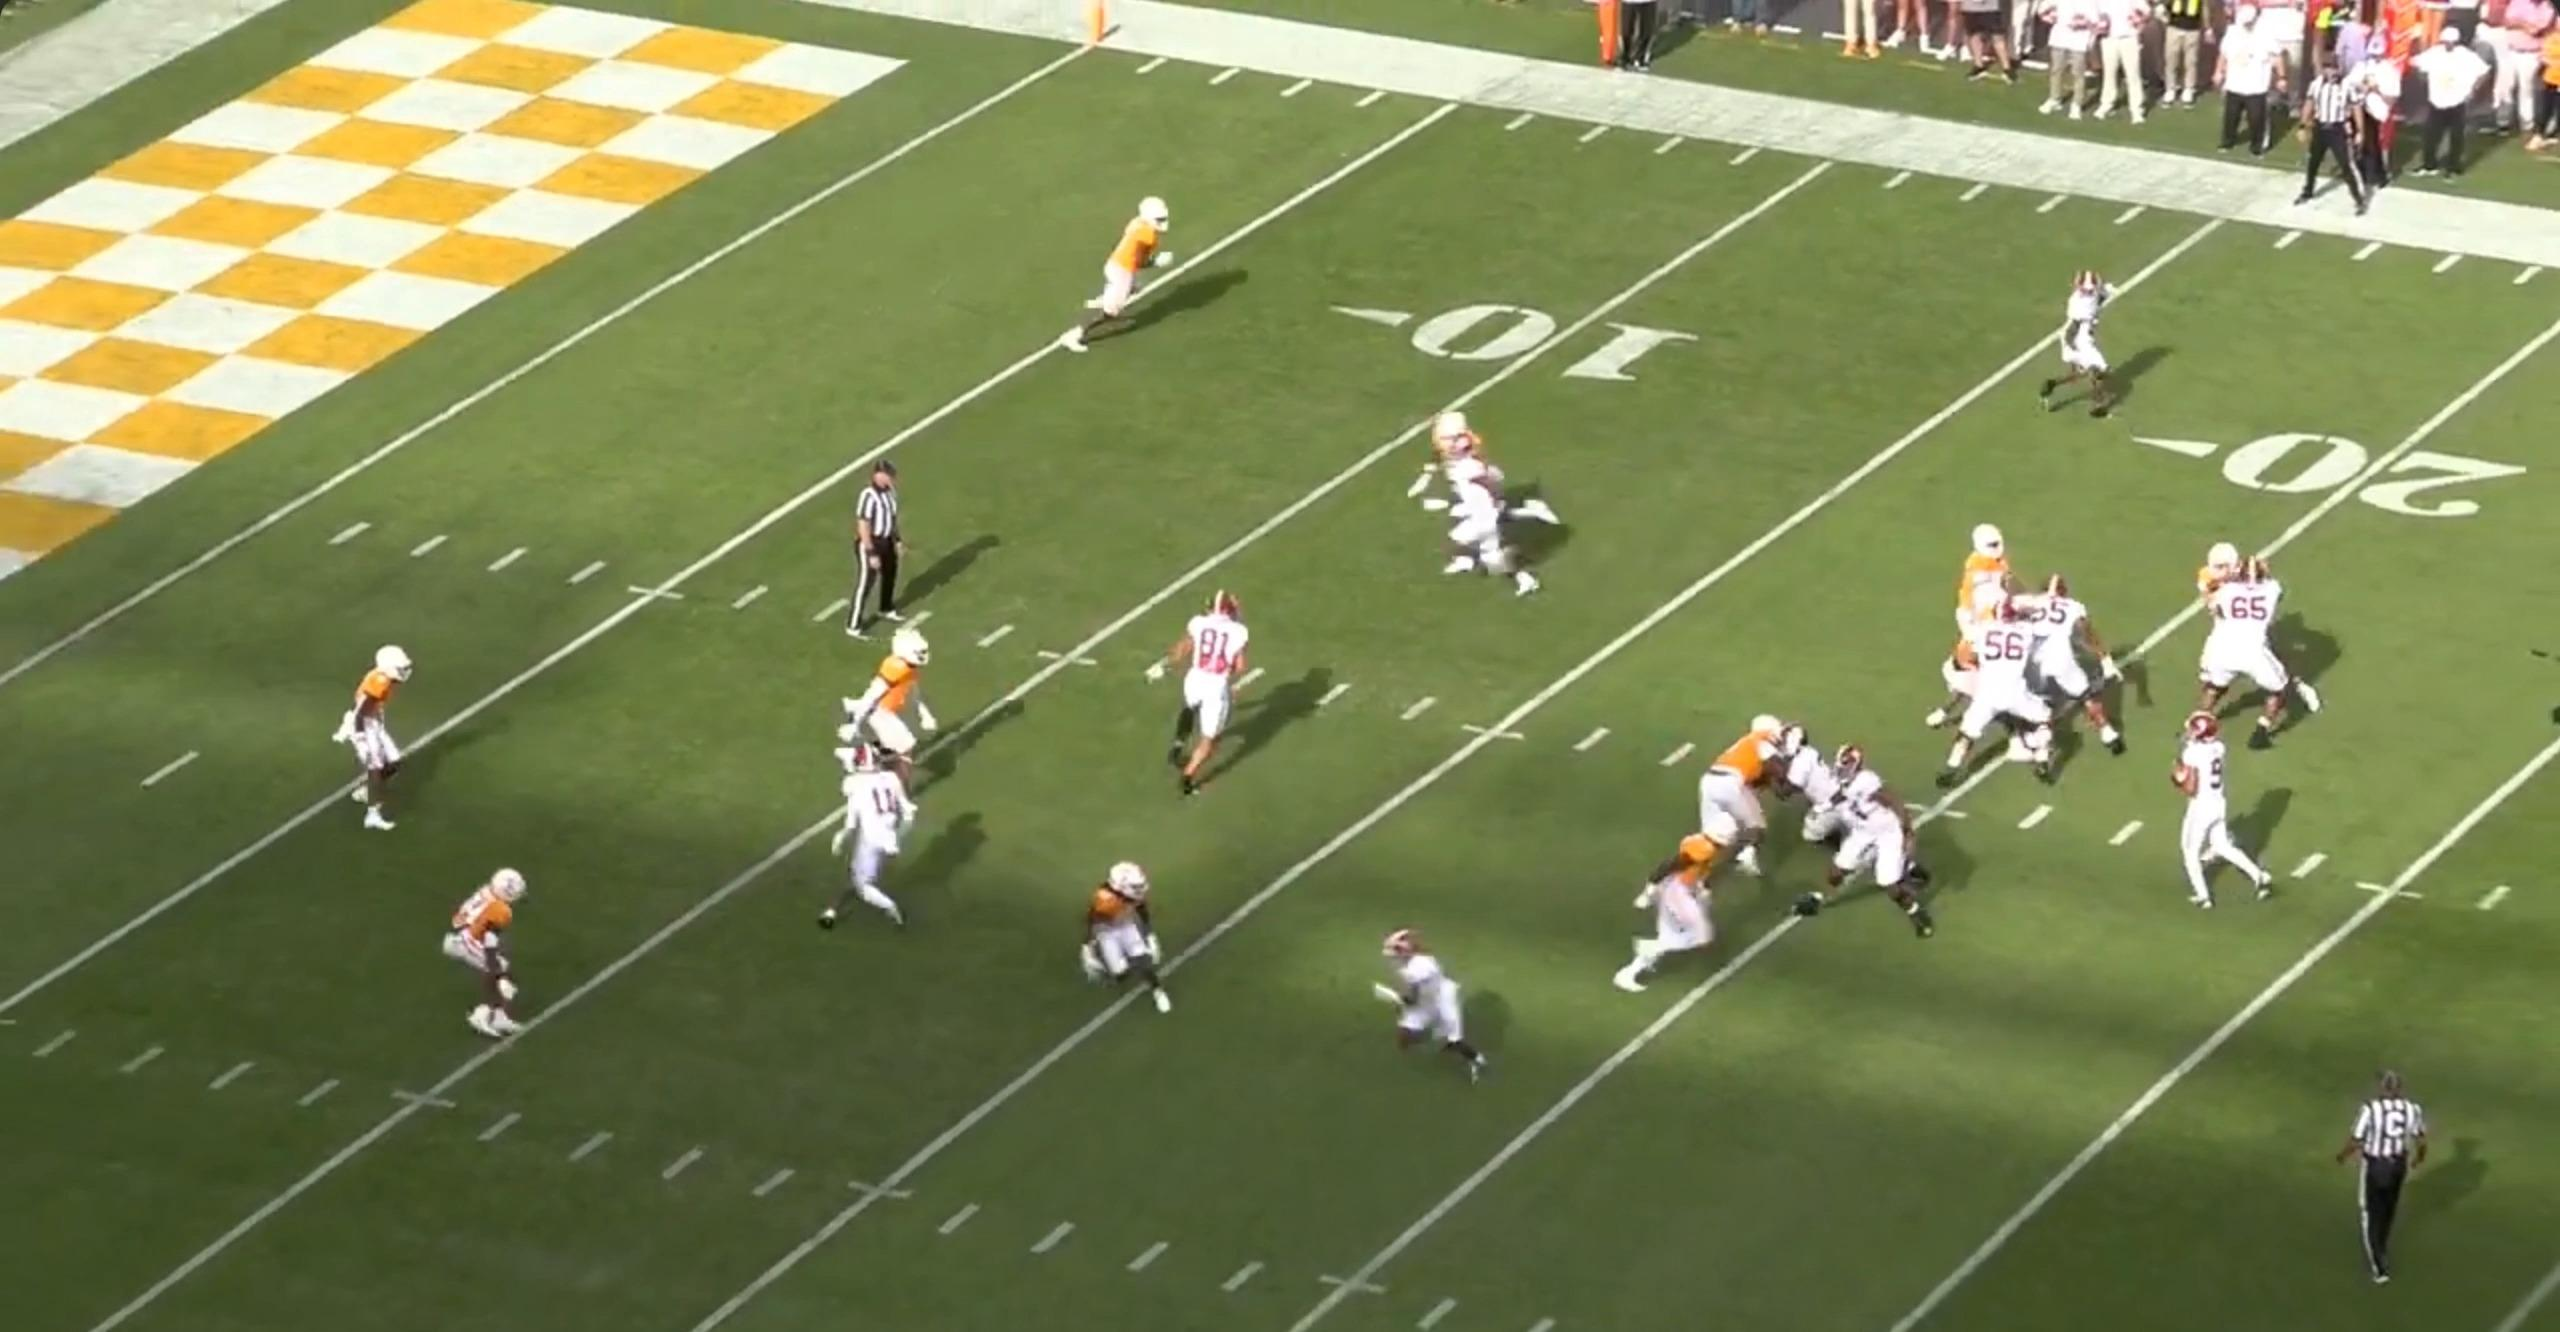defense: (2193, 539, 2327, 720), (1603, 822, 1733, 1007), (1399, 412, 1559, 542), (1066, 194, 1183, 356), (1677, 711, 1785, 885), (1073, 859, 1185, 1021), (832, 634, 932, 812), (330, 639, 417, 842), (450, 863, 544, 1047), (1918, 599, 2014, 736), (1944, 518, 2016, 620)
oline: (1824, 744, 1951, 937), (2007, 569, 2130, 765), (1929, 641, 2068, 803), (2194, 556, 2299, 756), (1756, 712, 1860, 884)
qb: (2159, 707, 2271, 913)
ref: (2322, 1066, 2428, 1295), (2285, 46, 2370, 219), (838, 460, 912, 645)
skill: (1366, 924, 1493, 1092), (1155, 591, 1254, 798), (821, 742, 923, 935), (1424, 433, 1541, 599), (2039, 271, 2132, 430)
